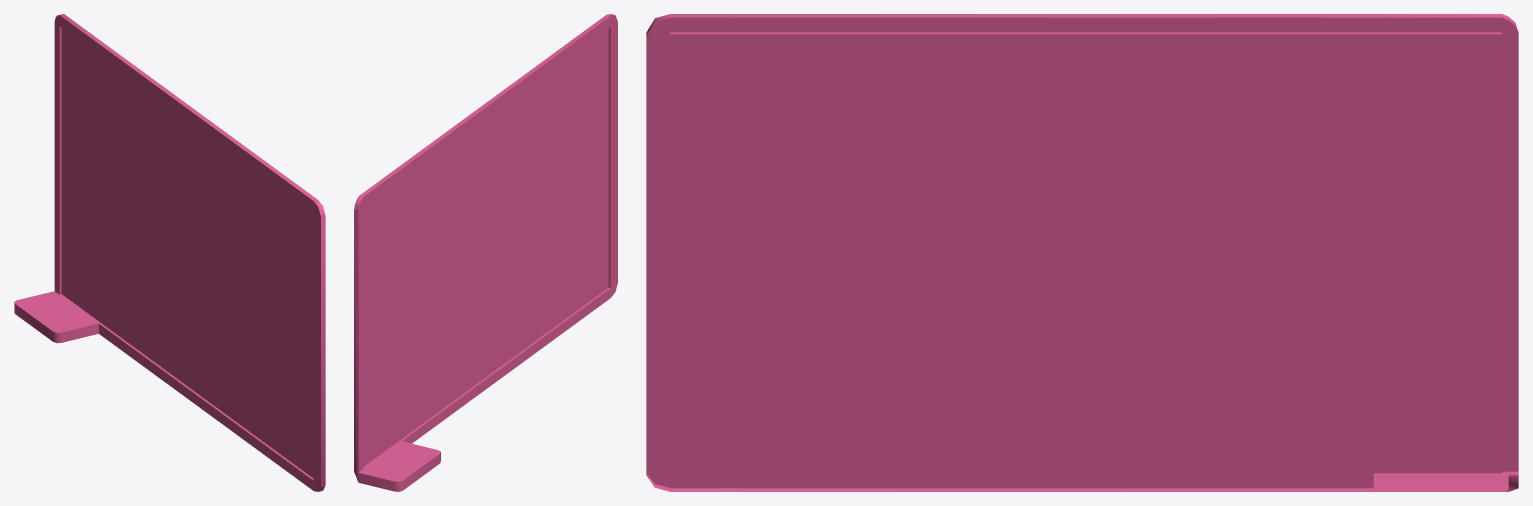
The model's file is Whiteboard.fbx.
The picture shows the model from 3 angles, left to right: view 1: azimuth 30°, elevation 25°; view 2: azimuth 150°, elevation 25°; view 3: azimuth 270°, elevation 25°; orthographic projection. The views are drawn at different scales.
Parts seen in each view (by area): view 1: Whiteboard; view 2: Whiteboard; view 3: Whiteboard.
Boxes of the visible parts, <box> form: Whiteboard: <box>14,14,325,491</box>; Whiteboard: <box>354,14,617,491</box>; Whiteboard: <box>646,14,1518,491</box>.
Bounding box in the file's own units: 10.22 × 100 × 60.
